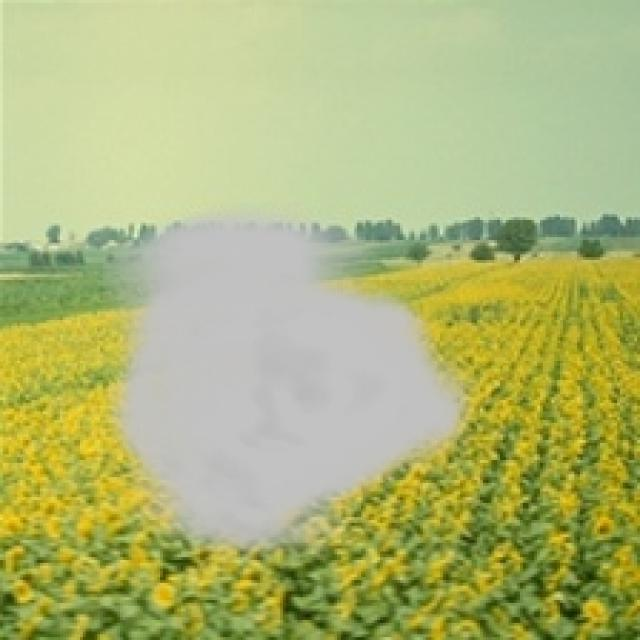Smoke: (103, 202, 480, 568)
